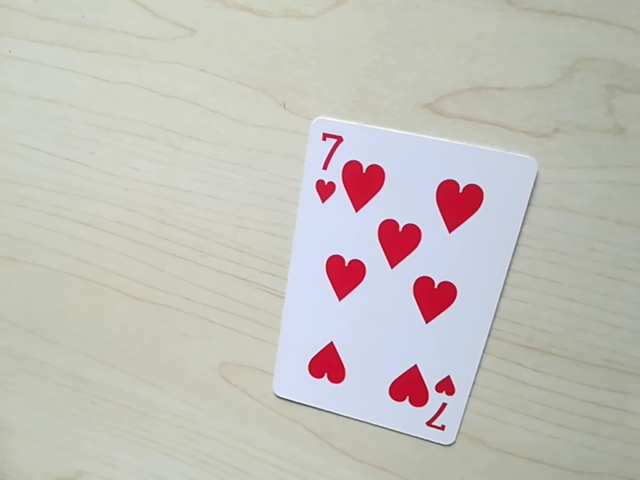hx 7: (309, 123, 353, 168), (416, 395, 457, 439)
